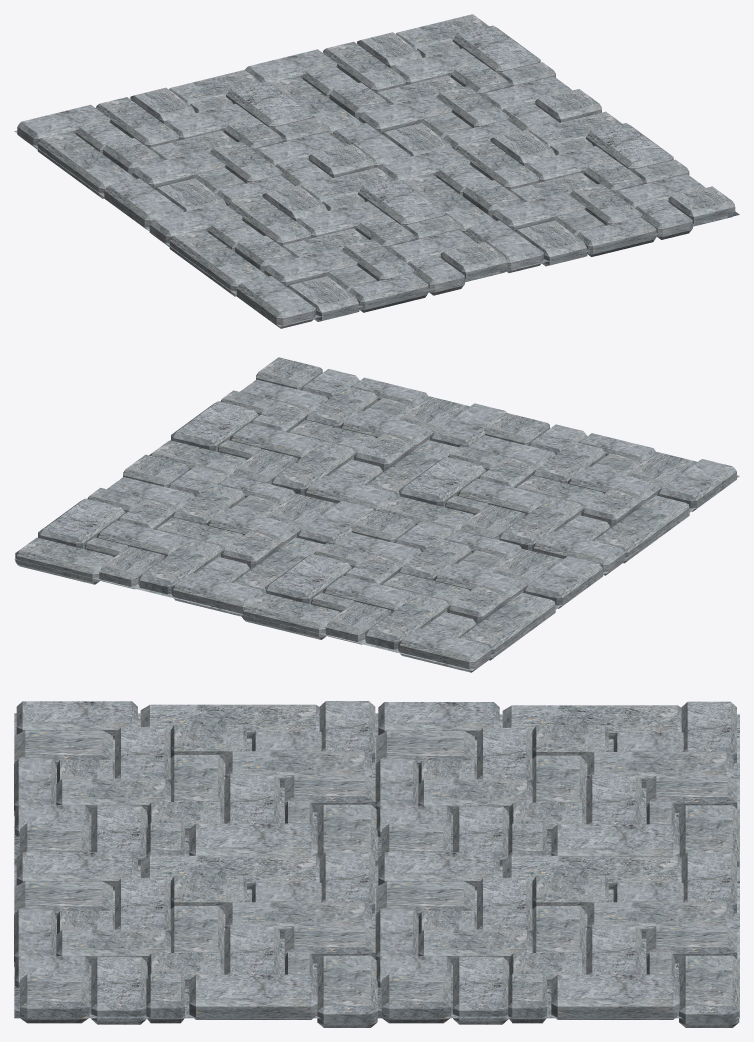
Rendered from Stone.fbx.
The picture shows the model from 3 angles, top to bottom: view 1: azimuth 30°, elevation 25°; view 2: azimuth 150°, elevation 25°; view 3: azimuth 270°, elevation 25°; orthographic projection. The views are drawn at different scales.
Visible parts, largest first — view 1: pCube27, pCube26, pCube24, pCube25; view 2: pCube24, pCube25, pCube27, pCube26; view 3: pCube25, pCube26, pCube27, pCube24.
Boxes of the visible parts, left/top/right/bottom form: pCube27: left=146, top=167, right=511, bottom=328; pCube26: left=378, top=111, right=739, bottom=272; pCube24: left=14, top=69, right=374, bottom=230; pCube25: left=245, top=14, right=601, bottom=167; pCube24: left=241, top=510, right=605, bottom=672; pCube25: left=14, top=454, right=373, bottom=616; pCube27: left=378, top=412, right=739, bottom=575; pCube26: left=149, top=357, right=506, bottom=510; pCube25: left=375, top=852, right=739, bottom=1027; pCube26: left=14, top=852, right=378, bottom=1027; pCube27: left=14, top=701, right=378, bottom=866; pCube24: left=375, top=701, right=739, bottom=866.
Bounding box in the file's own units: 5.97 × 0.2651 × 5.98.
